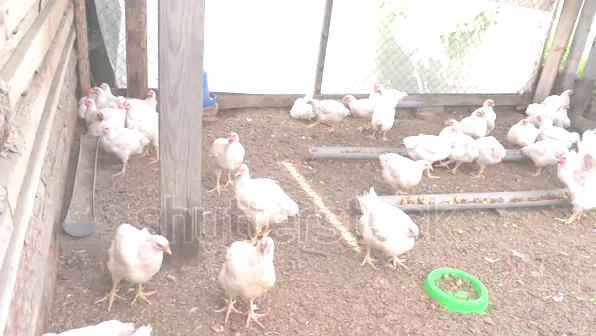Pollos: (351, 190, 414, 255), (103, 225, 174, 282), (218, 236, 280, 301), (236, 164, 289, 227), (555, 151, 596, 210), (377, 154, 432, 189), (406, 123, 458, 156), (100, 124, 141, 165), (372, 86, 398, 133), (304, 97, 346, 126), (211, 133, 248, 163), (458, 110, 490, 135), (507, 118, 536, 145)
